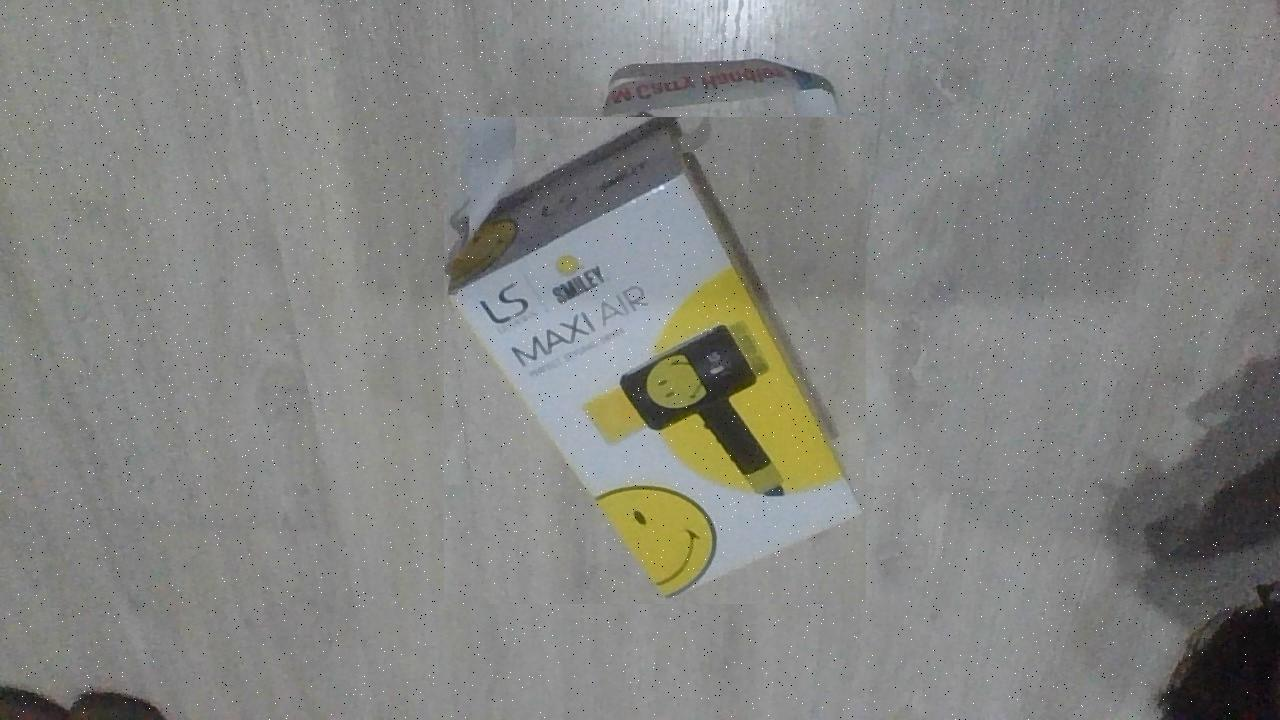Dryer: (444, 117, 866, 604)
